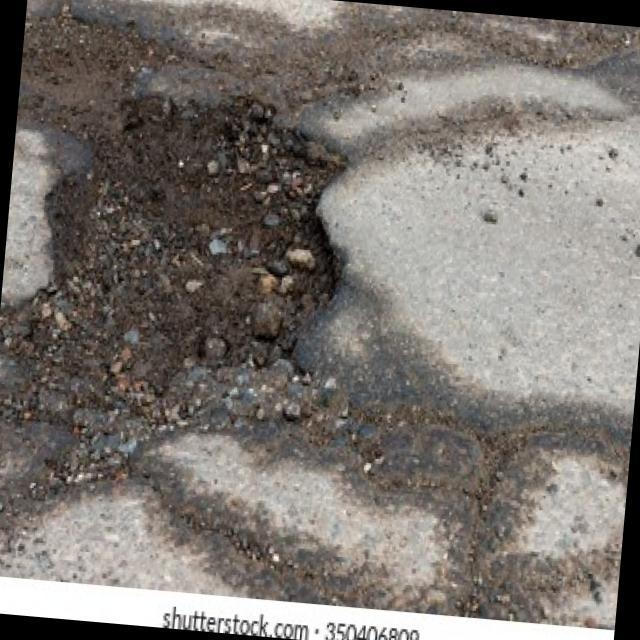pothole: (0, 74, 358, 432), (15, 6, 171, 146)
